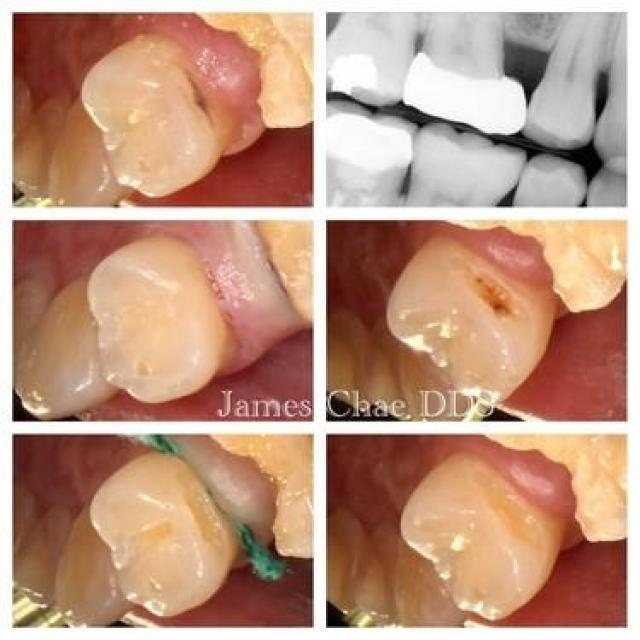caries: (461, 263, 523, 331), (175, 60, 219, 135)
